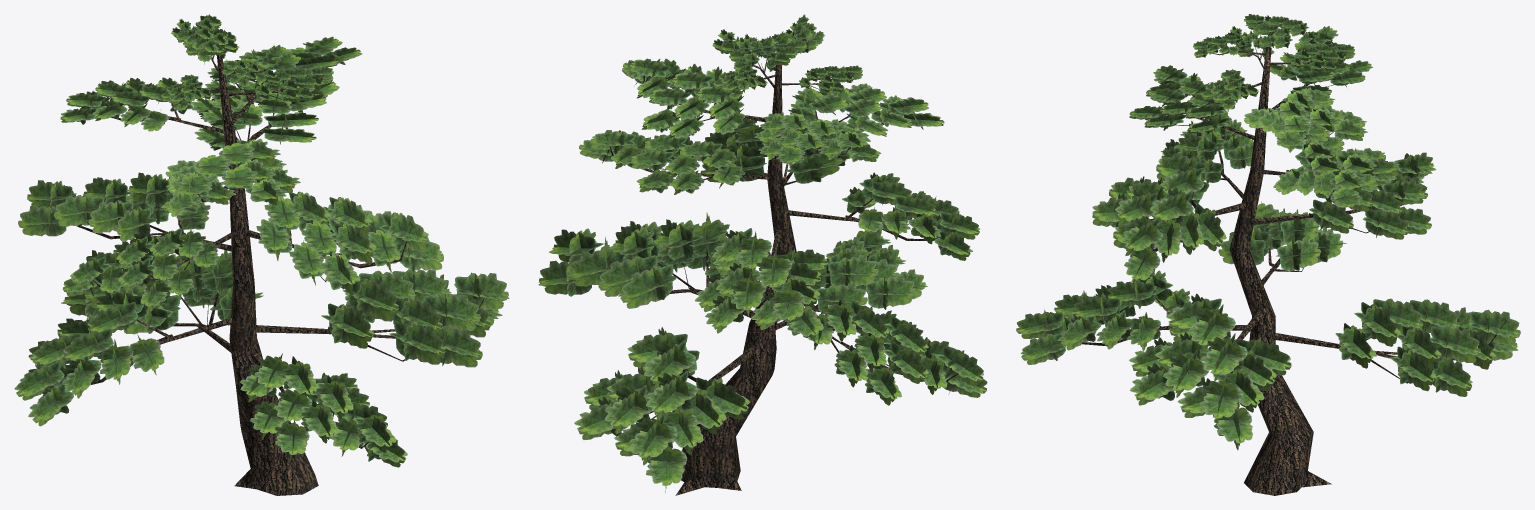
Rendered from Tree_6m.gltf.
3 renders of one model, left to right at view 1: azimuth 30°, elevation 25°; view 2: azimuth 150°, elevation 25°; view 3: azimuth 270°, elevation 25°, orthographic. The views are drawn at different scales.
Parts seen in each view (by area): view 1: root; view 2: root; view 3: root.
Part boxes in pixels (left/top/right/bottom): root: left=14, top=14, right=509, bottom=495; root: left=538, top=14, right=987, bottom=495; root: left=1016, top=14, right=1520, bottom=495.
Size of the model in its own units: 6.61 by 6.36 by 6.73.
2 materials, 2 textured.
